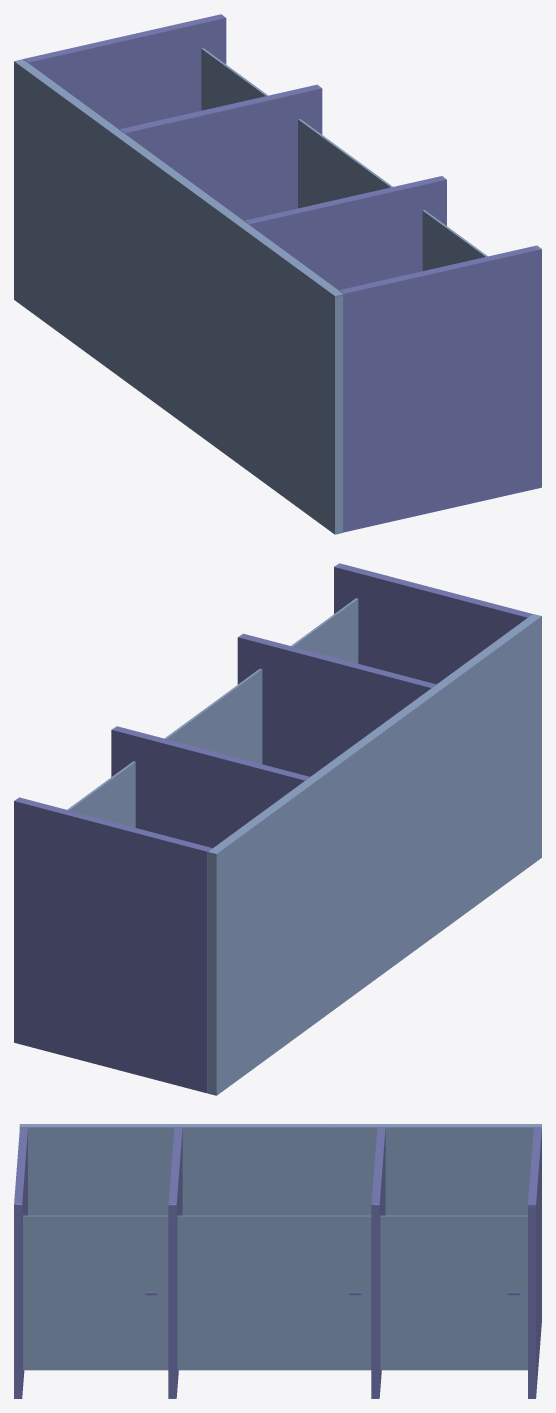
The model's file is bathroom_stall_Model.fbx.
3 views of the same model, one above another, from view 1: azimuth 30°, elevation 25°; view 2: azimuth 150°, elevation 25°; view 3: azimuth 270°, elevation 25° (orthographic). The views are drawn at different scales.
Parts seen in each view (by area): view 1: bagni; view 2: bagni; view 3: bagni.
Boxes of the visible parts, <box> form: bagni: <box>14,14,541,534</box>; bagni: <box>14,563,541,1095</box>; bagni: <box>14,1124,541,1398</box>.
Bounding box in the file's own units: 0.2364 × 0.2645 × 0.6522.
Materials: 1 (1 with a texture image).
